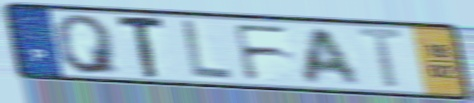A: (301, 26, 365, 86)
F: (230, 22, 294, 82)
L: (180, 18, 235, 83)
Q: (52, 13, 124, 76)
T: (354, 25, 412, 92), (115, 15, 168, 81)
